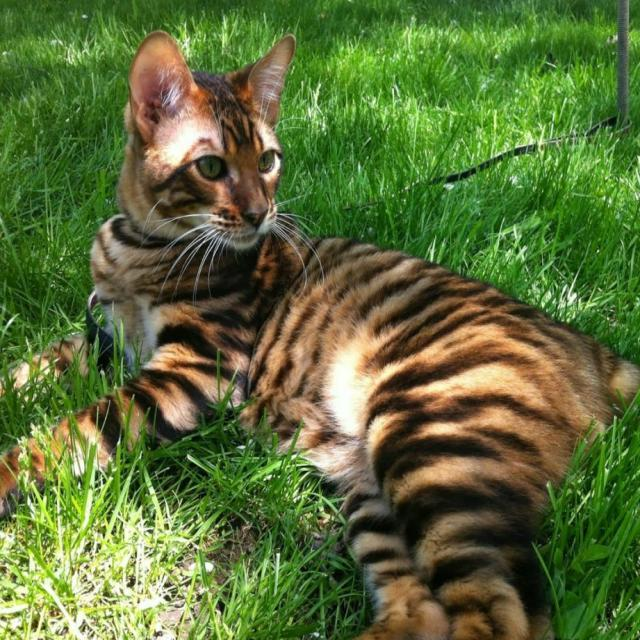Toyger: (0, 24, 640, 640)
